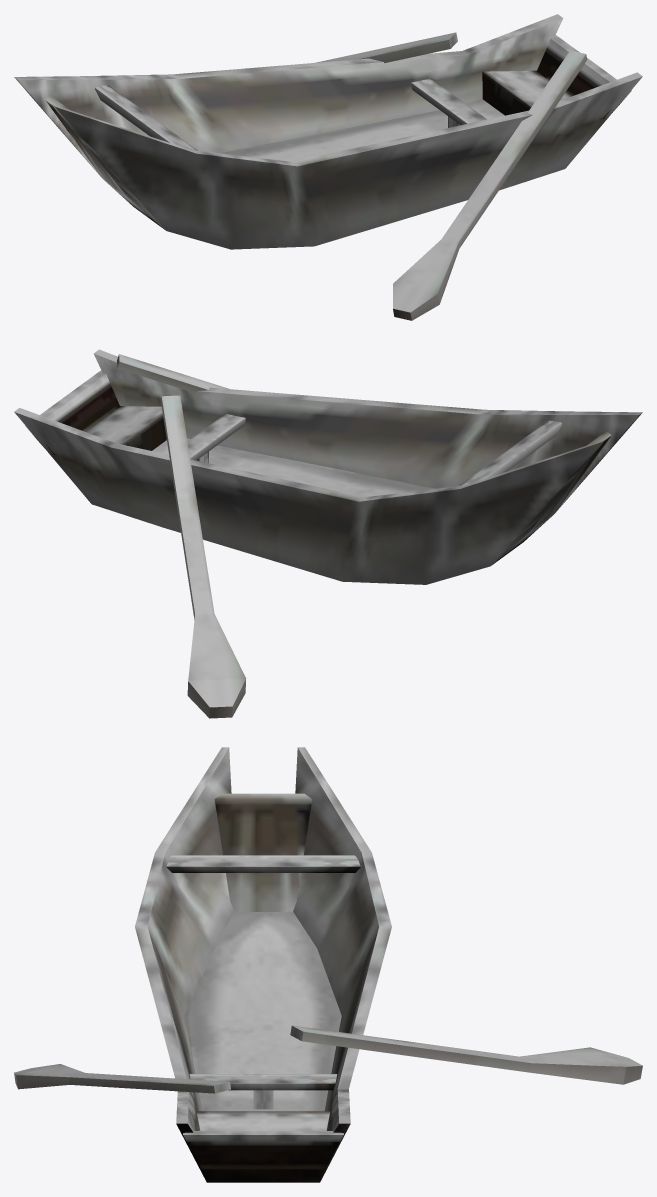
The model's file is general_obj_ferryboat01.fbx.
3 views of the same model, one above another, from view 1: azimuth 30°, elevation 25°; view 2: azimuth 150°, elevation 25°; view 3: azimuth 270°, elevation 25° (orthographic). The views are drawn at different scales.
Parts seen in each view (by area): view 1: Object10; view 2: Object10; view 3: Object10.
Part boxes in pixels (box(x1,y1,x2,y2)): Object10: box(14, 14, 642, 320); Object10: box(14, 349, 642, 718); Object10: box(14, 747, 642, 1182).
Size of the model in its own units: 5.3 by 1.9 by 4.99.
